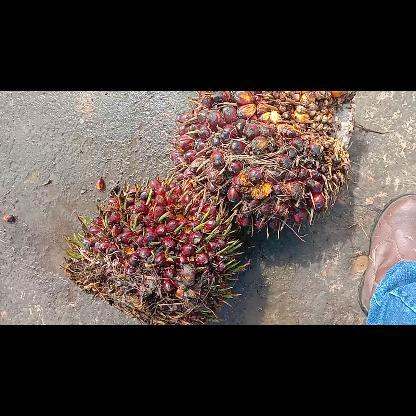Kurang masak: (64, 174, 248, 324)
TBS masak: (168, 91, 354, 235)
